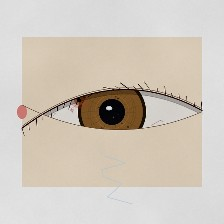foreign_body_visible: (66, 90, 92, 111)
